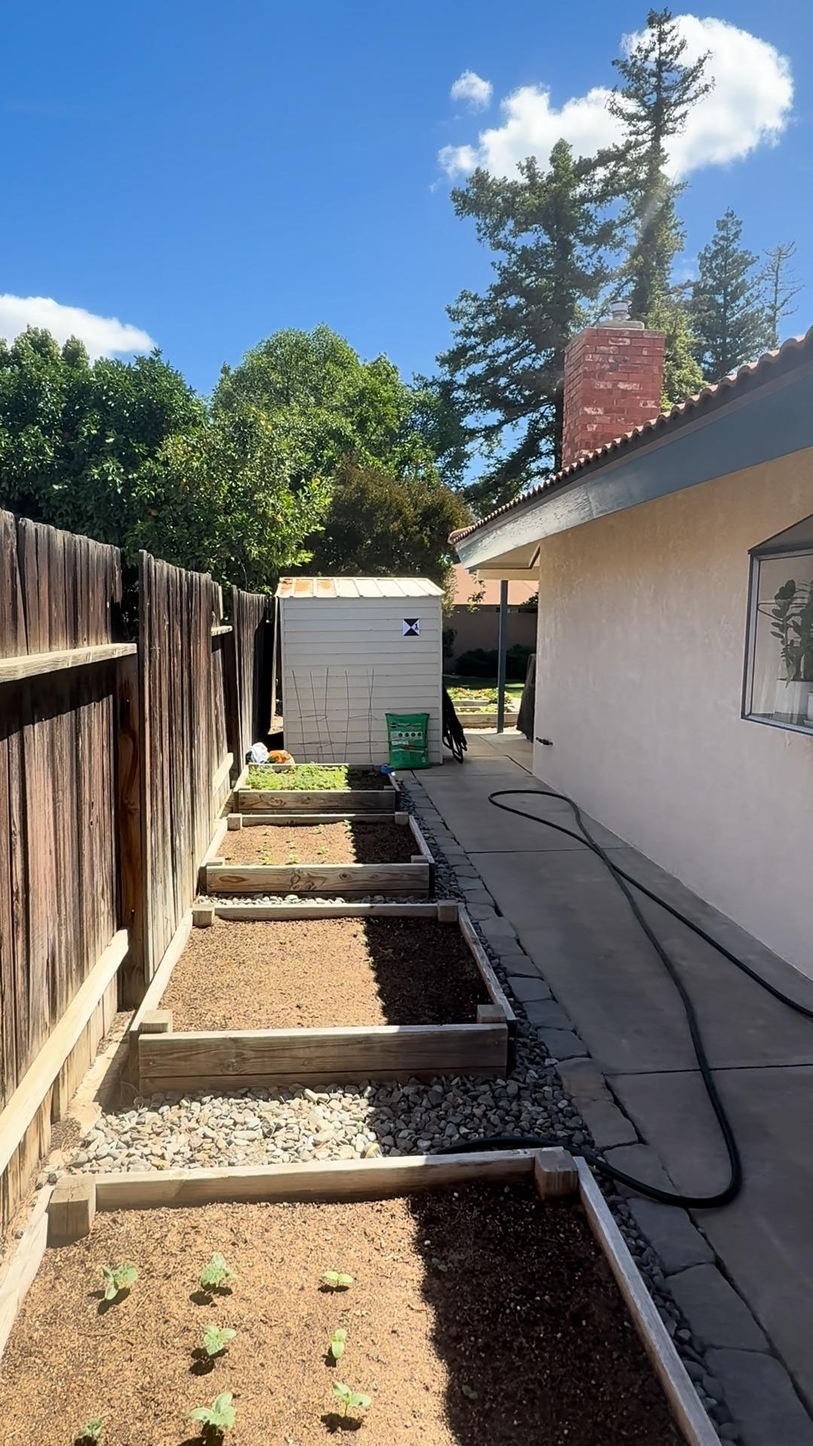target1: (403, 617, 421, 637)
